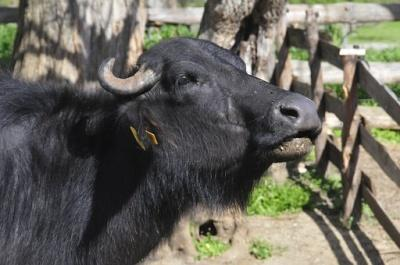buffalo: (0, 38, 320, 264)
